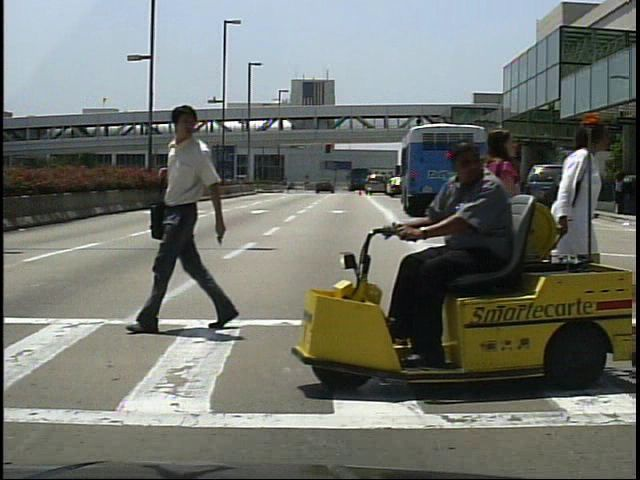person: (391, 137, 521, 368), (129, 98, 233, 330), (533, 110, 612, 366), (454, 124, 518, 357), (515, 191, 552, 327), (582, 166, 603, 218), (501, 166, 519, 218), (487, 163, 506, 212)
